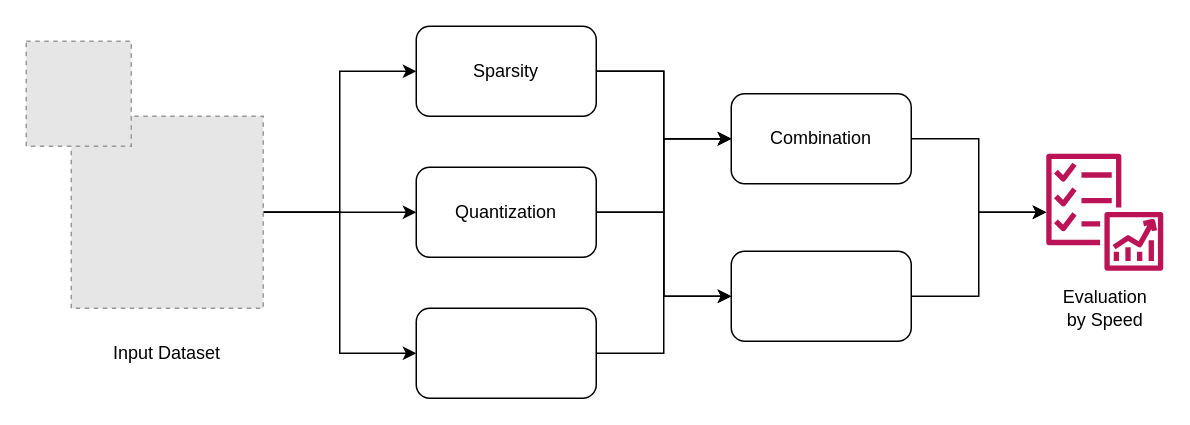
Some shapes in this 1190 by 425 pixel diagram are drawn without their labels. Grey dashed boxes stand in for pictures. Here are the shapes that lost their labels. From the top down, the box of each, then its label:
(730, 250, 911, 341): Individual Method
(415, 307, 596, 398): Distillation
